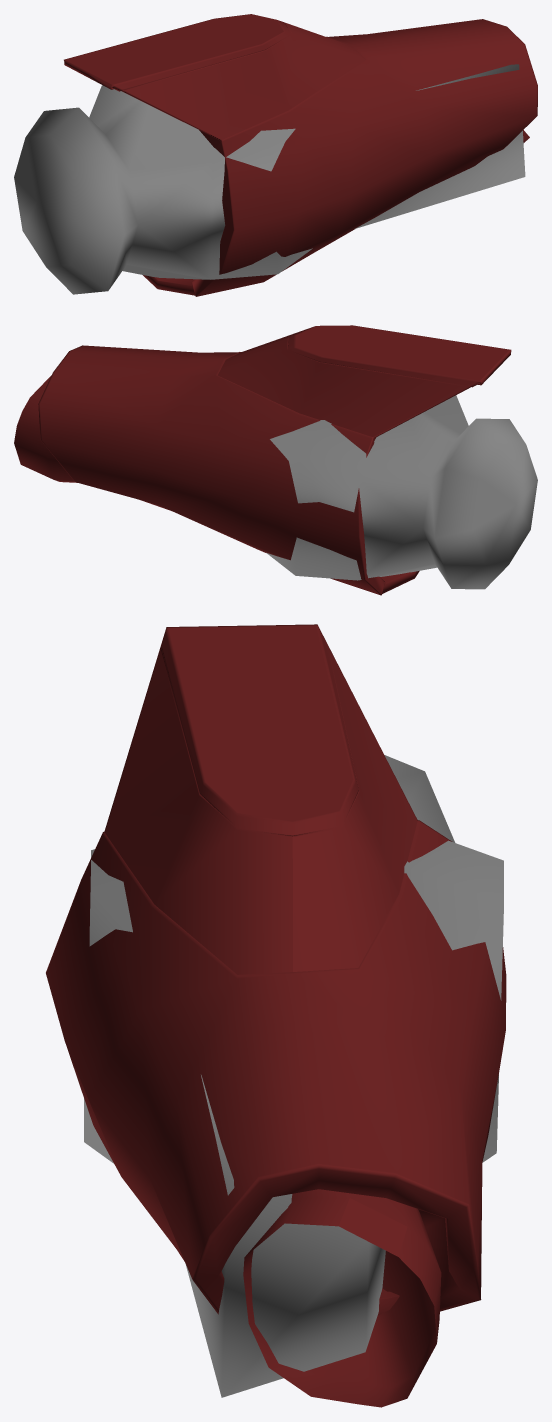
File: lelbow.obj
The picture shows the model from 3 angles, top to bottom: view 1: azimuth 30°, elevation 25°; view 2: azimuth 150°, elevation 25°; view 3: azimuth 270°, elevation 25°; orthographic projection. The views are drawn at different scales.
Parts seen in each view (by area): view 1: IronMan:null_68, IronMan:null_126; view 2: IronMan:null_68, IronMan:null_126, IronMan:null_9; view 3: IronMan:null_68, IronMan:null_126, IronMan:null_9.
Part boxes in pixels (<box>): IronMan:null_68: <box>64,14,537,296</box>; IronMan:null_126: <box>14,64,525,294</box>; IronMan:null_68: <box>38,325,511,595</box>; IronMan:null_126: <box>266,395,537,589</box>; IronMan:null_9: <box>14,375,77,482</box>; IronMan:null_68: <box>46,624,506,1315</box>; IronMan:null_126: <box>84,755,503,1397</box>; IronMan:null_9: <box>243,1189,441,1407</box>.
Bounding box in the file's own units: 40.09 × 18.79 × 17.09.
